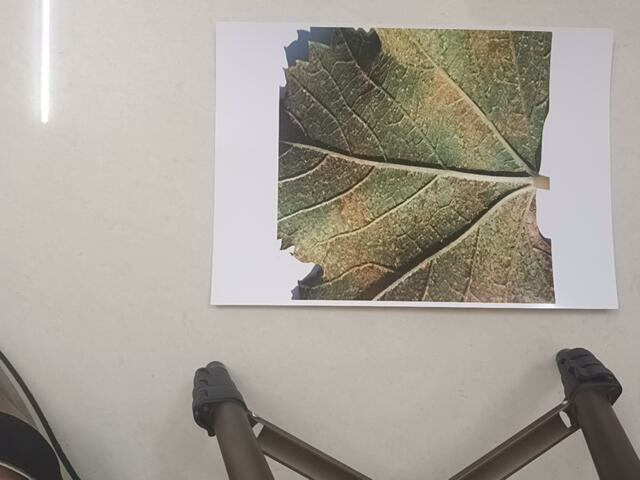Grape_Rust_Fungus: (274, 22, 584, 316)
